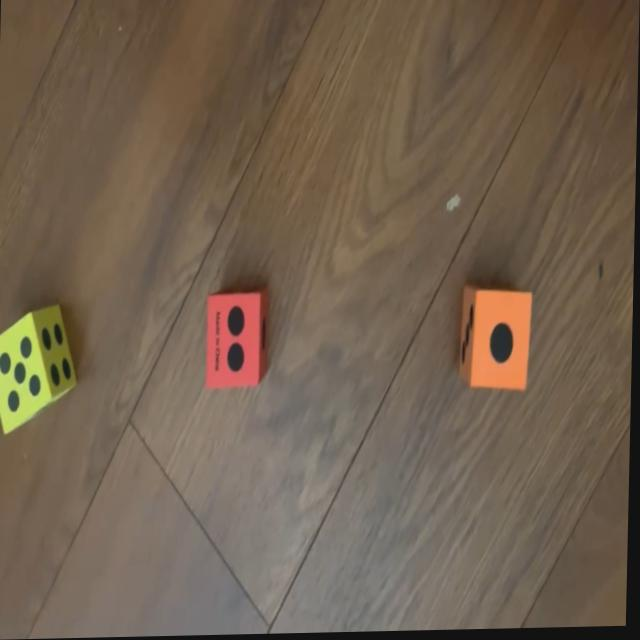red_block: (206, 292, 271, 391)
